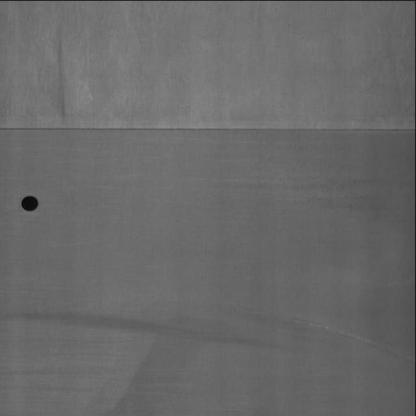punching_hole: (19, 190, 45, 214)
welding_line: (2, 116, 416, 146)
